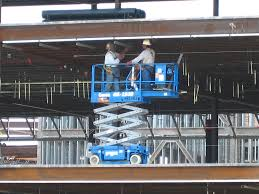Scissor Lift: (88, 62, 188, 165)
